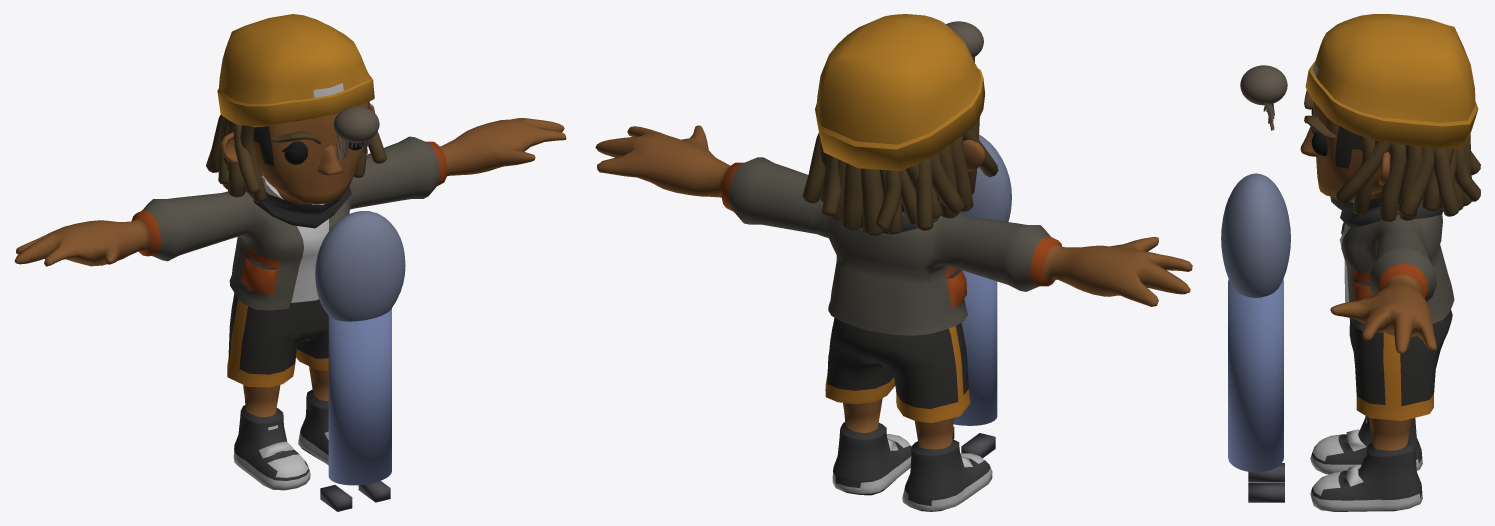
The model's file is hm_ped_noah_v12.glb.
3 views of the same model, side by side, from view 1: azimuth 30°, elevation 25°; view 2: azimuth 150°, elevation 25°; view 3: azimuth 270°, elevation 25° (orthographic). The views are drawn at different scales.
Visible parts, largest first — view 1: hm_ped_noah; view 2: hm_ped_noah; view 3: hm_ped_noah.
Part boxes in pixels (<box>): hm_ped_noah: <box>14,14,566,511</box>; hm_ped_noah: <box>595,14,1192,511</box>; hm_ped_noah: <box>1221,14,1480,511</box>.
Bounding box in the file's own units: 2.59 × 1.95 × 0.988.
Materials: 7 (1 with a texture image).
